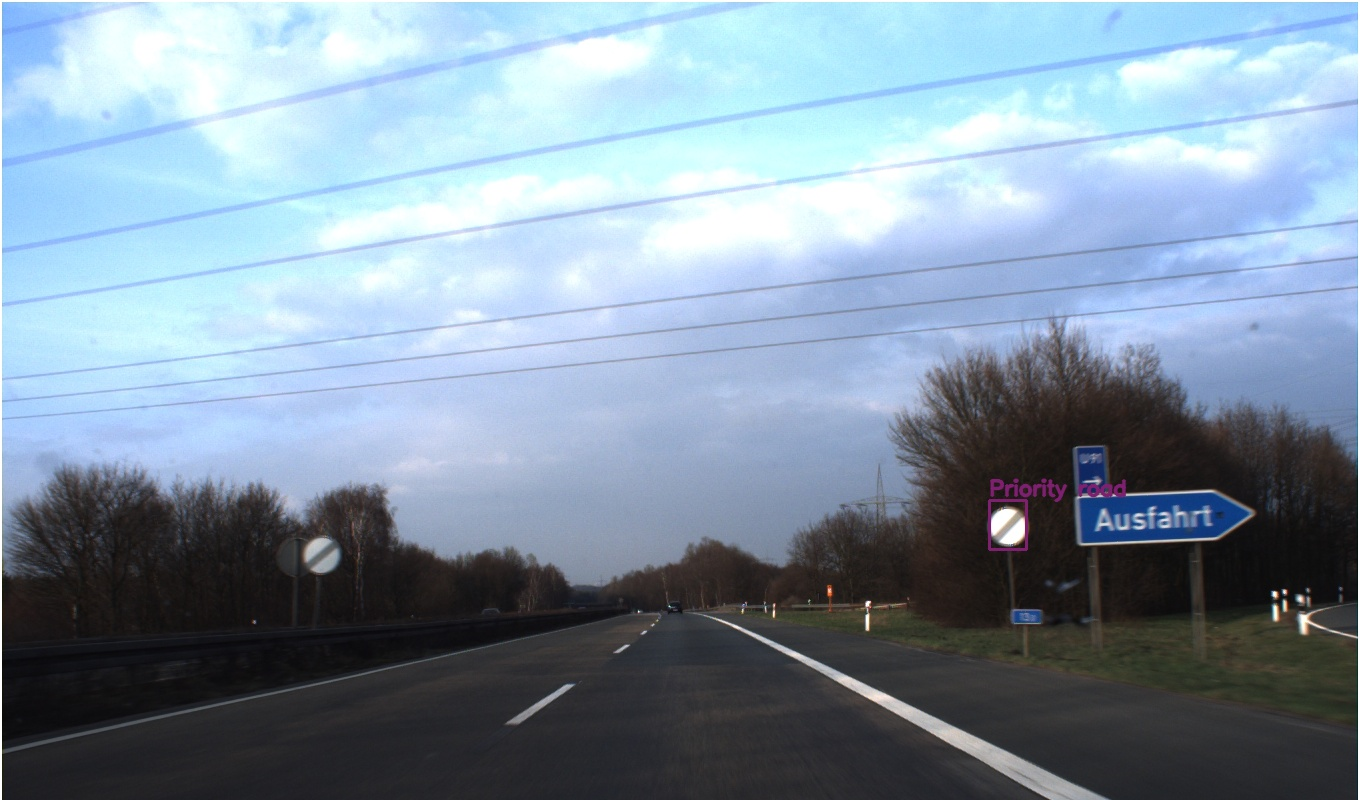Keep right: (617, 484, 673, 540)
